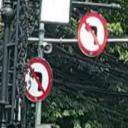NoVirarEsquerda: (20, 58, 52, 103), (79, 12, 107, 54)
